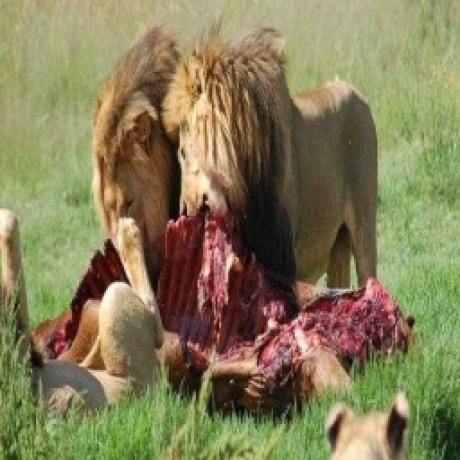Lion: (89, 17, 381, 290)
